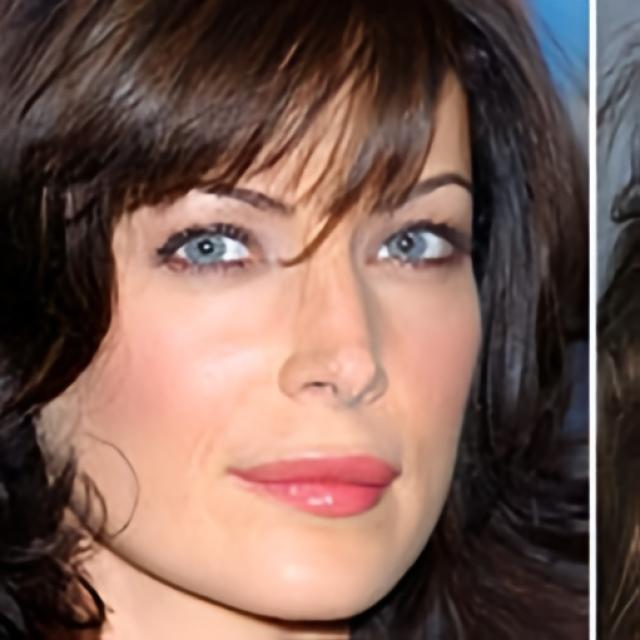content: (29, 5, 483, 619)
